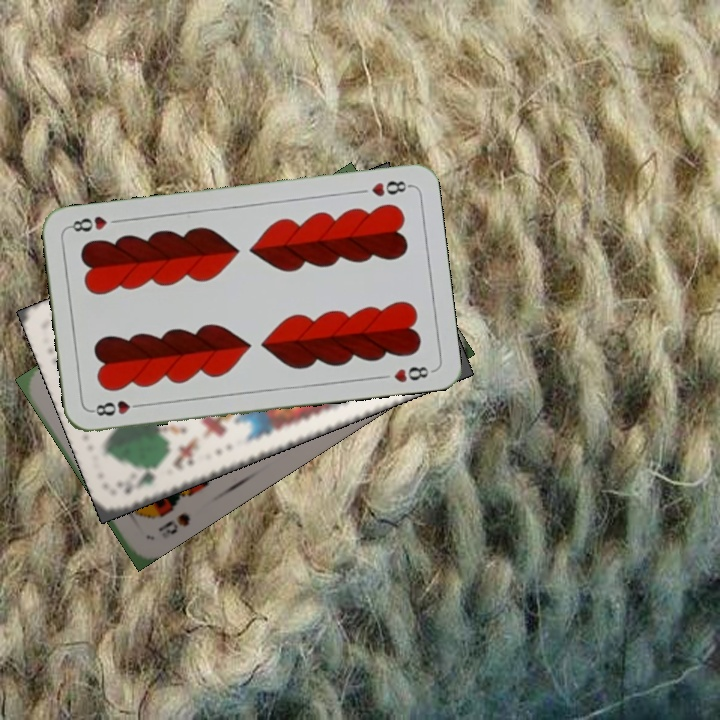GK: (113, 461, 165, 497)
H8: (88, 396, 147, 419), (367, 176, 413, 200)
S8: (153, 509, 193, 538)
